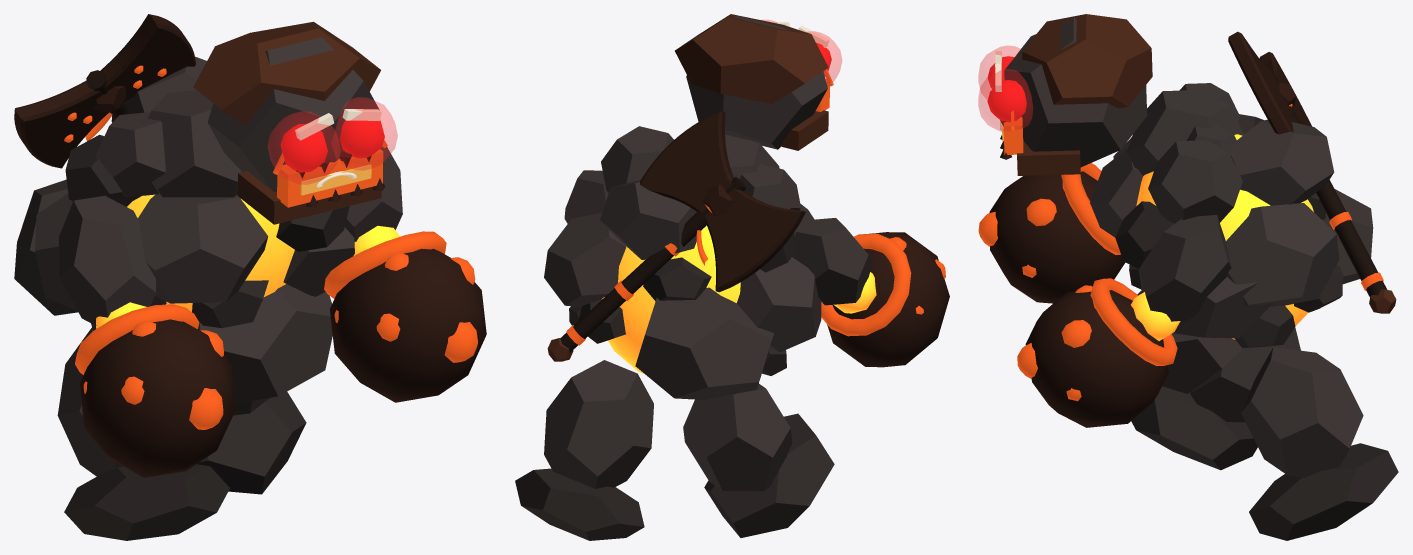
Rendered from slag.glb.
3 views of the same model, side by side, from view 1: azimuth 30°, elevation 25°; view 2: azimuth 150°, elevation 25°; view 3: azimuth 270°, elevation 25° (orthographic). The views are drawn at different scales.
Size of the model in its own units: 2.3 by 2.98 by 2.39.
